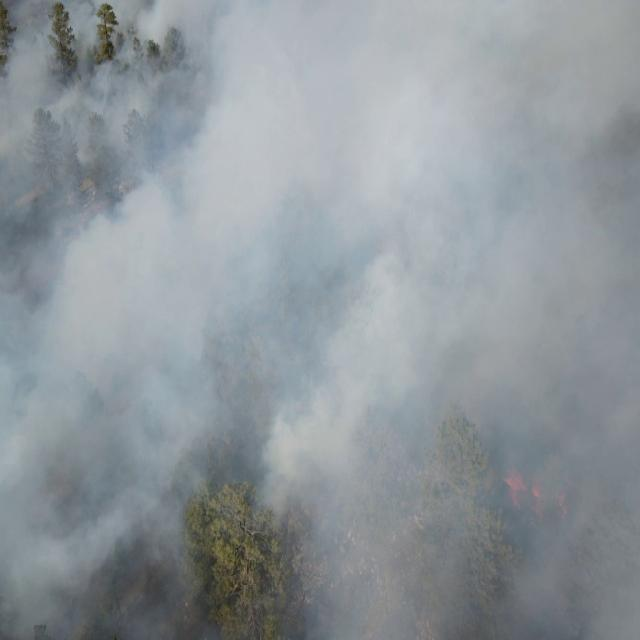fire: (505, 466, 541, 516), (556, 492, 574, 520)
smoke: (0, 0, 640, 640)
